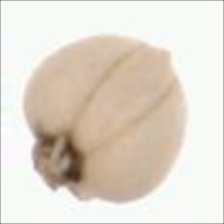L5: (72, 40, 181, 150), (32, 130, 91, 194)
L6: (18, 31, 191, 206)
